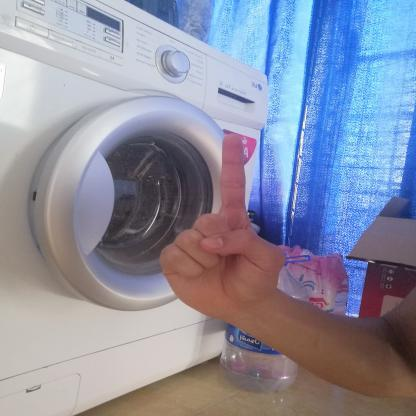BAA: (150, 123, 298, 334)
